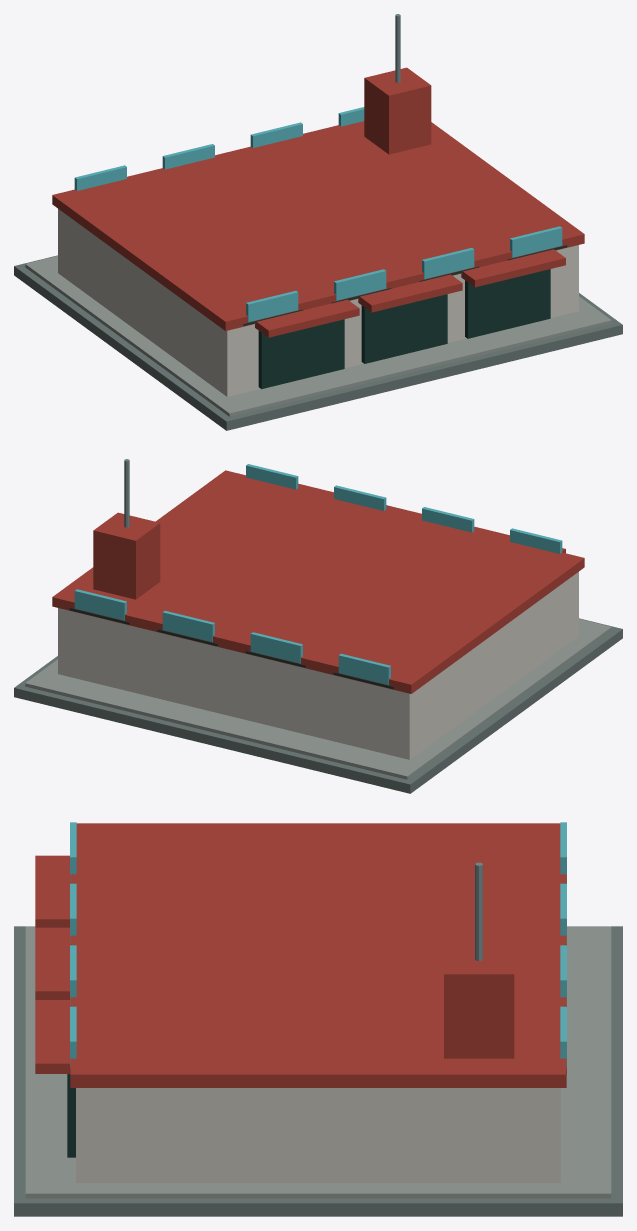
File: fire_lv1.glb
3 renders of one model, top to bottom at view 1: azimuth 30°, elevation 25°; view 2: azimuth 150°, elevation 25°; view 3: azimuth 270°, elevation 25°, orthographic. The views are drawn at different scales.
Parts seen in each view (by area): view 1: rough, glossy; view 2: rough, glossy; view 3: rough, glossy, metallic.
Boxes of the visible parts, <box> form: rough: <box>14,67,622,430</box>; glossy: <box>74,107,562,322</box>; rough: <box>14,470,622,793</box>; glossy: <box>74,464,562,685</box>; rough: <box>14,823,622,1216</box>; glossy: <box>70,822,566,1066</box>; metallic: <box>475,862,482,960</box>.
Bounding box in the file's own units: 9.8 × 5.09 × 9.1.
